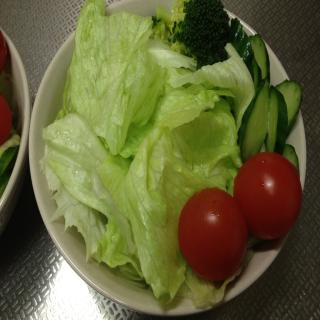tomato: (176, 186, 248, 282), (233, 150, 302, 241), (0, 94, 12, 146), (0, 29, 8, 72)
